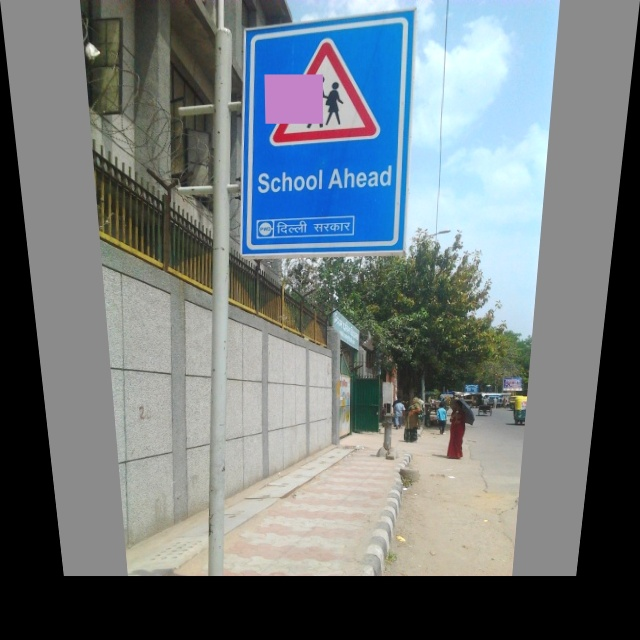School_Ahead: (262, 38, 394, 150)
